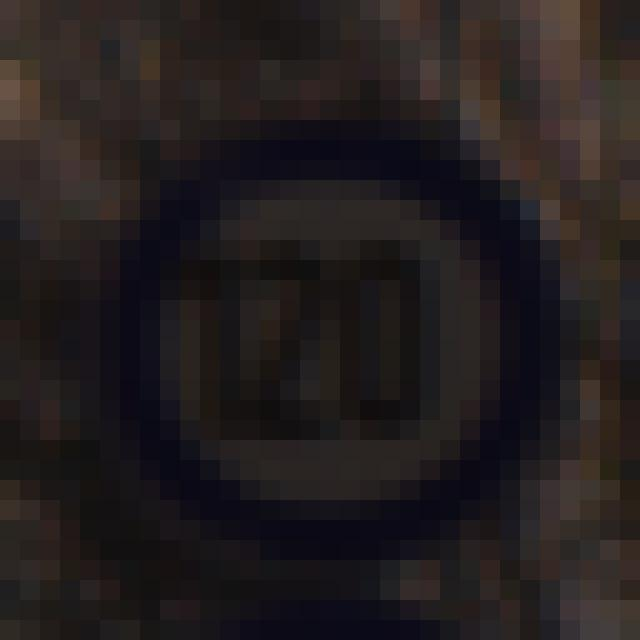SPEED LIMIT 120: (101, 127, 569, 555)
